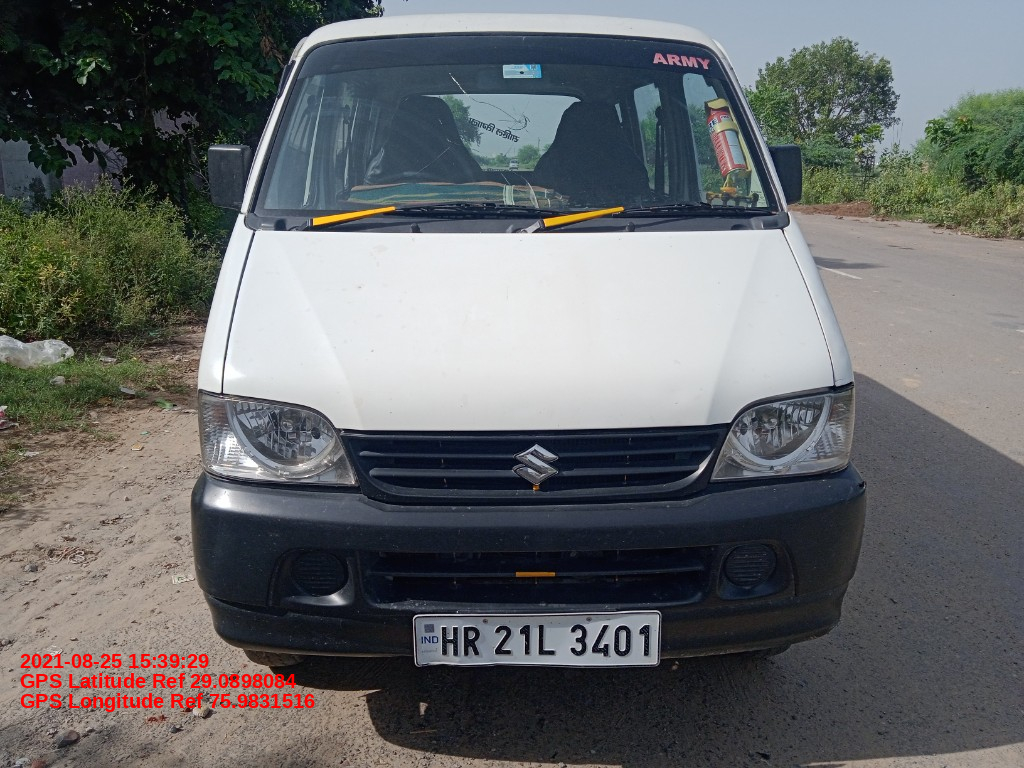Scratched: (361, 335, 389, 360), (671, 392, 691, 415)
